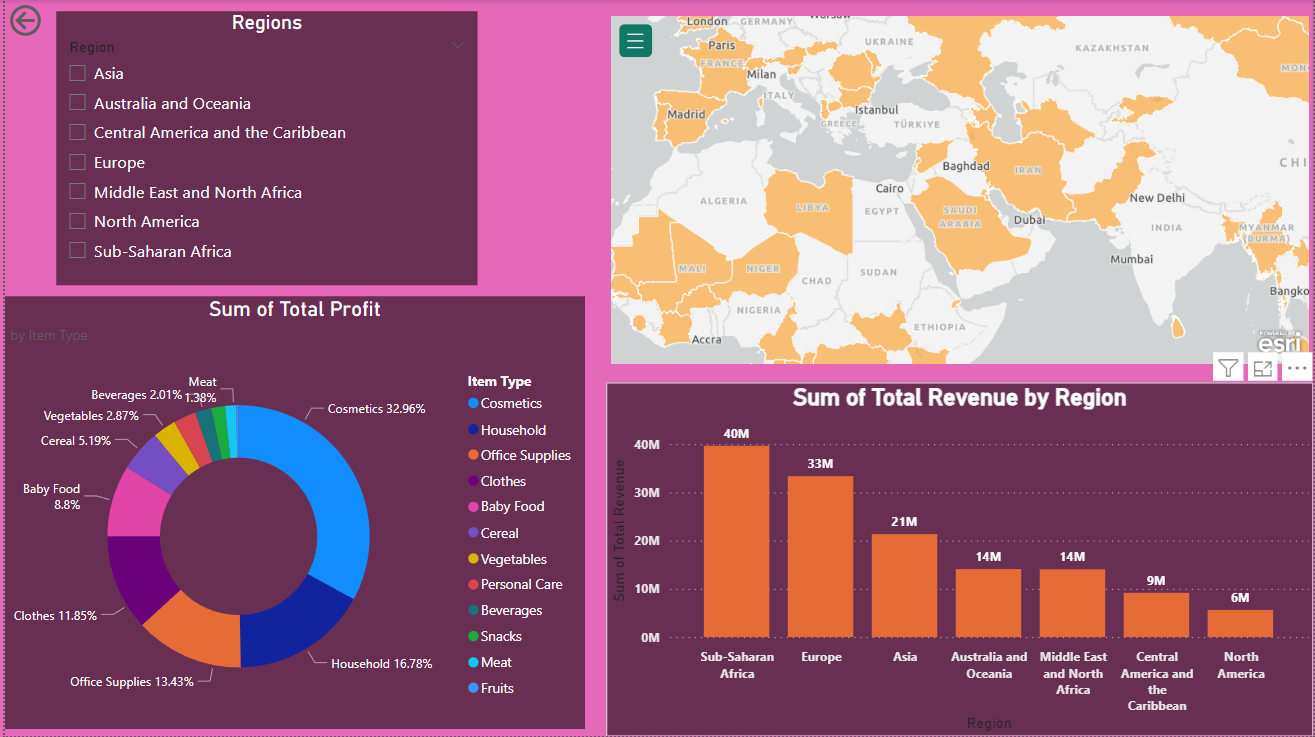

The dashboard page shown, as its layout file describes it:
{"tool":"powerbi","page":{"name":"Analyzing_Amazon_Sales_data","canvas":[1280,720],"ordinal":0},"visuals":[{"type":"esriVisual","fields":{"Location":["Amazon Sales data.Country"]},"box":[588,11,691.9,349.6],"z":0},{"type":"slicer","title":"Regions","fields":{"Values":["Amazon Sales data.Region"]},"box":[50.1,11,412,267.7],"z":2000},{"type":"donutChart","fields":{"Y":["Sum(Amazon Sales data.Total Profit)"],"Category":["Amazon Sales data.Item Type"]},"box":[0,289.7,567.2,423],"z":3000},{"type":"clusteredColumnChart","fields":{"Category":["Amazon Sales data.Region"],"Y":["Sum(Amazon Sales data.Total Revenue)"]},"box":[588,374.1,691.9,345.9],"z":4000},{"type":"actionButton","box":[0,0,100,40],"z":5000}]}

Visuals, with their boxes in screenshot pixels (x1, y1, x2, y2), scaled from the page's 1280x720 canvas onto the 1315x737 screenshot:
esriVisual - Amazon Sales data.Country: [x1=604, y1=11, x2=1314, y2=369]
"Regions" slicer: [x1=51, y1=11, x2=475, y2=285]
donutChart - Sum(Amazon Sales data.Total Profit) x Amazon Sales data.Item Type: [x1=0, y1=297, x2=583, y2=730]
clusteredColumnChart - Amazon Sales data.Region x Sum(Amazon Sales data.Total Revenue): [x1=604, y1=383, x2=1314, y2=736]
actionButton: [x1=0, y1=0, x2=103, y2=41]
